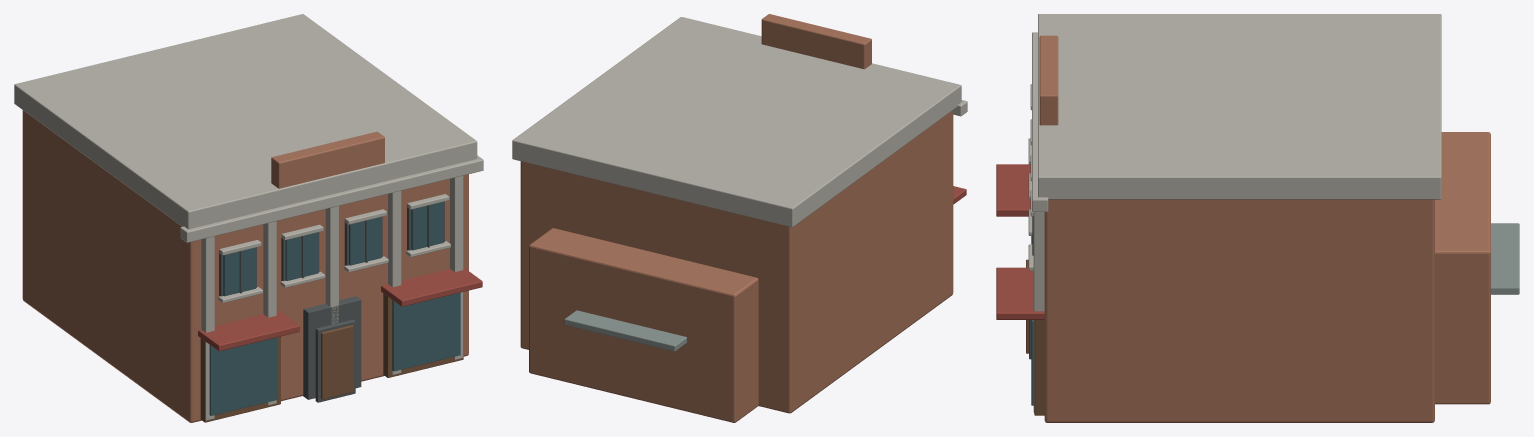
File: DowntownStorefront_01.fbx
3 renders of one model, left to right at view 1: azimuth 30°, elevation 25°; view 2: azimuth 150°, elevation 25°; view 3: azimuth 270°, elevation 25°, orthographic. The views are drawn at different scales.
Parts seen in each view (by area): view 1: Store_Parapet, Store_Main, DisplayGlass_3.6, DisplayGlass_-3.6, Store_Cornice, Store_CentralParapet, Storefront_Recess, Store_Door, Awning_-3.6, Awning_3.6, Store_Pilaster_-4.9, Store_Pilaster_4.9 (+10 smaller); view 2: Store_Parapet, Store_Main, Store_RearService, Store_CentralParapet, Store_ServiceCanopy; view 3: Store_Main, Store_Parapet, Store_RearService, Awning_3.6, Store_ServiceCanopy, Store_CentralParapet, Awning_-3.6, Store_Pilaster_4.9, Store_Cornice, DisplayFrame_3.6.
Part boxes in pixels (x1,y1,x2,y2): Store_Parapet: (14, 14, 477, 229); Store_Main: (22, 110, 468, 422); DisplayGlass_3.6: (392, 292, 460, 371); DisplayGlass_-3.6: (209, 337, 277, 415); Store_Cornice: (180, 155, 483, 242); Store_CentralParapet: (271, 131, 384, 188); Storefront_Recess: (303, 296, 361, 399); Store_Door: (321, 325, 353, 399); Awning_-3.6: (198, 310, 299, 351); Awning_3.6: (381, 267, 482, 306); Store_Pilaster_-4.9: (201, 236, 214, 420); Store_Pilaster_4.9: (450, 175, 463, 359); Store_Parapet: (512, 17, 961, 227); Store_Main: (520, 110, 953, 413); Store_RearService: (529, 228, 758, 422); Store_CentralParapet: (761, 14, 871, 69); Store_ServiceCanopy: (564, 310, 686, 351); Store_Main: (1044, 199, 1434, 422); Store_Parapet: (1038, 14, 1441, 199); Store_RearService: (1435, 132, 1490, 404); Awning_3.6: (996, 267, 1044, 319); Store_ServiceCanopy: (1491, 223, 1519, 294); Store_CentralParapet: (1039, 35, 1058, 125); Awning_-3.6: (996, 164, 1030, 216); Store_Pilaster_4.9: (1033, 212, 1044, 412); Store_Cornice: (1032, 32, 1048, 211); DisplayFrame_3.6: (1034, 320, 1044, 415).
Size of the model in its own units: 11.7 by 9.23 by 15.42.
